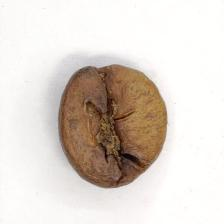NG: (79, 80, 142, 172)
